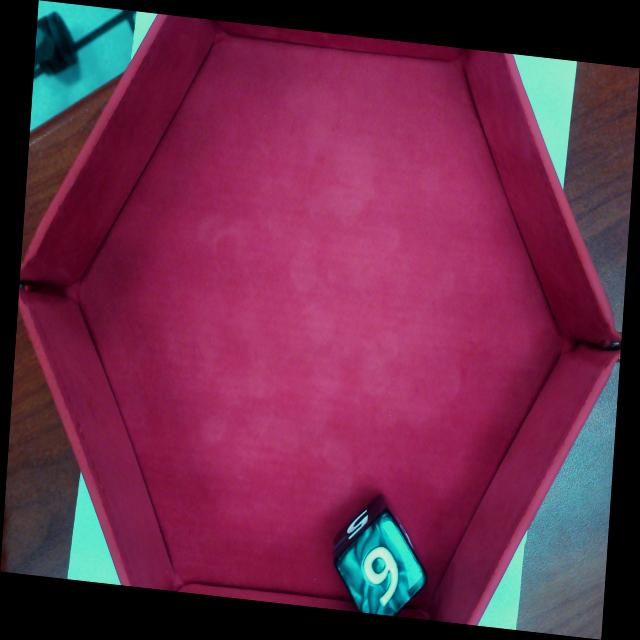dice: (331, 507, 431, 637)
